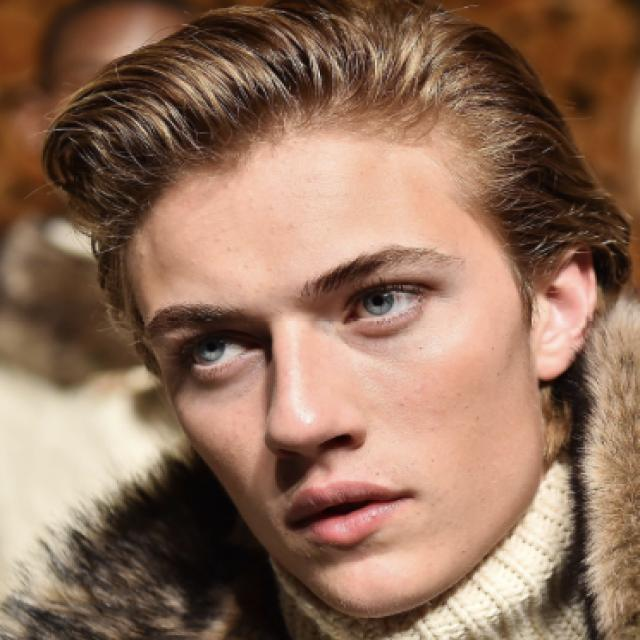natural: (42, 17, 581, 640)
